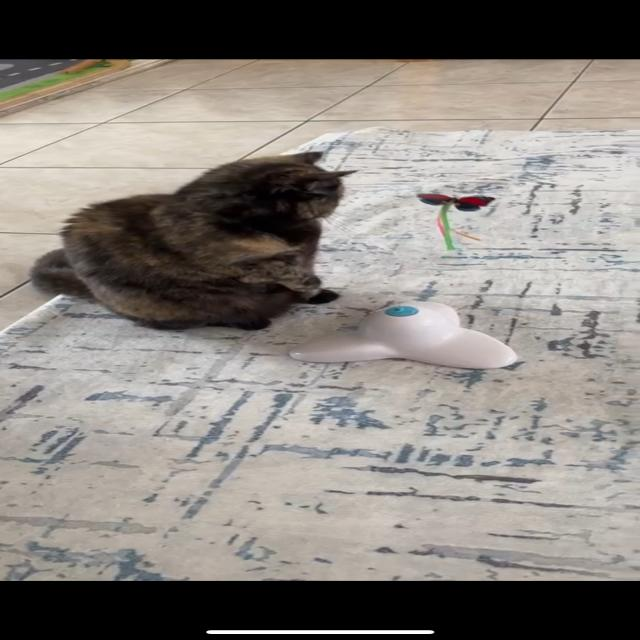authorized: (28, 150, 358, 332)
